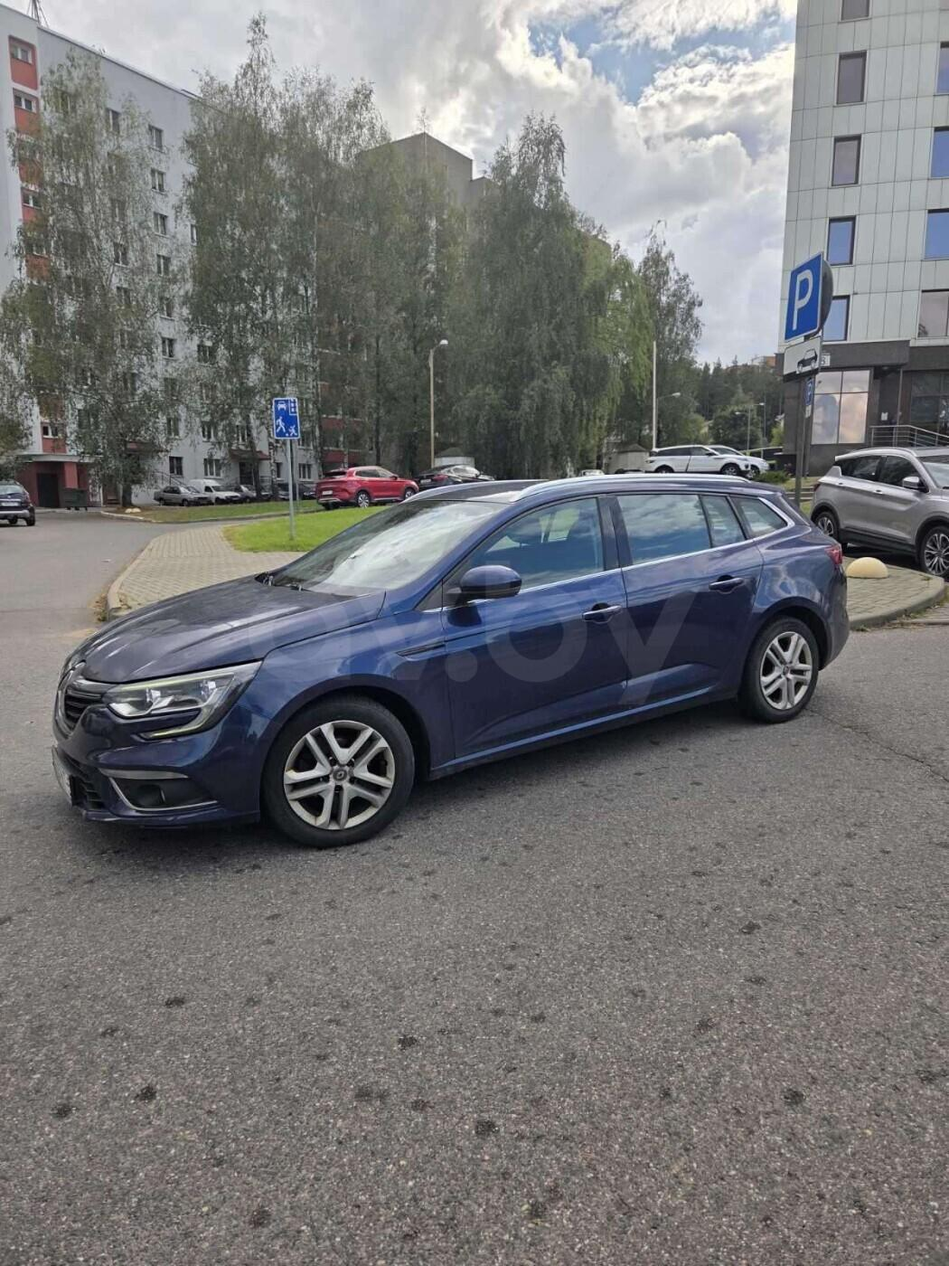Megane_2016-2020: (42, 456, 860, 843)
